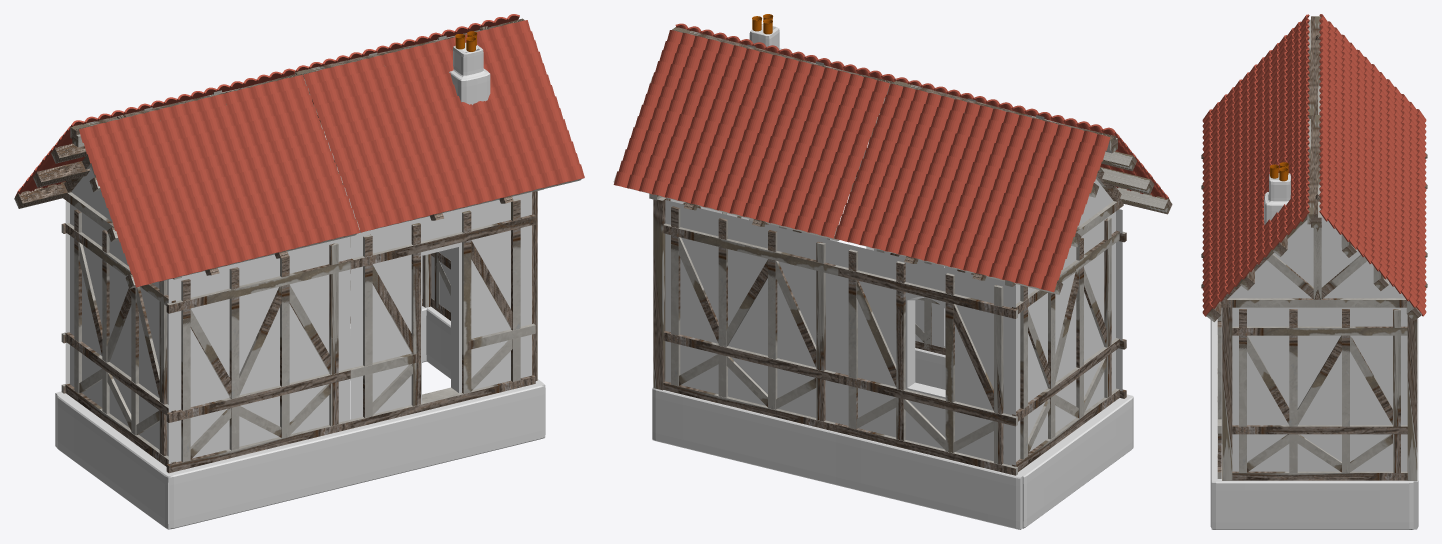
Rendered from House1.fbx.
3 renders of one model, left to right at view 1: azimuth 30°, elevation 25°; view 2: azimuth 150°, elevation 25°; view 3: azimuth 270°, elevation 25°, orthographic. The views are drawn at different scales.
Visible parts, largest first — view 1: Roof.005; view 2: Roof.005; view 3: Roof.005.
Part boxes in pixels (bbox=[...]): Roof.005: bbox=[14, 14, 584, 529]; Roof.005: bbox=[613, 14, 1172, 529]; Roof.005: bbox=[1201, 14, 1427, 529].
Size of the model in its own units: 496 by 404 by 239.
